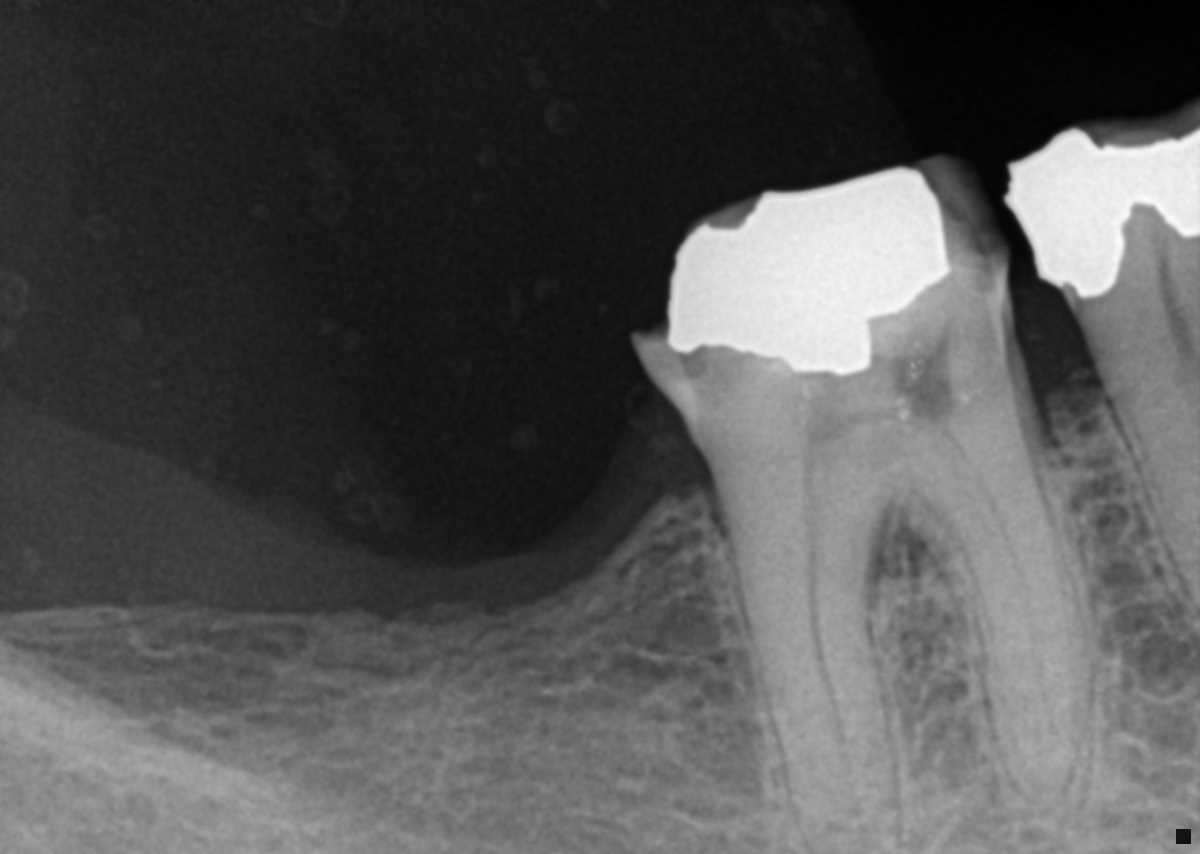Distal Canal: (800, 487, 857, 799)
Distal Root: (717, 507, 895, 853)
Main Root: (1063, 245, 1200, 592)
Mesial Canal: (947, 435, 1061, 741)
Mesial Root: (915, 383, 1090, 808)
